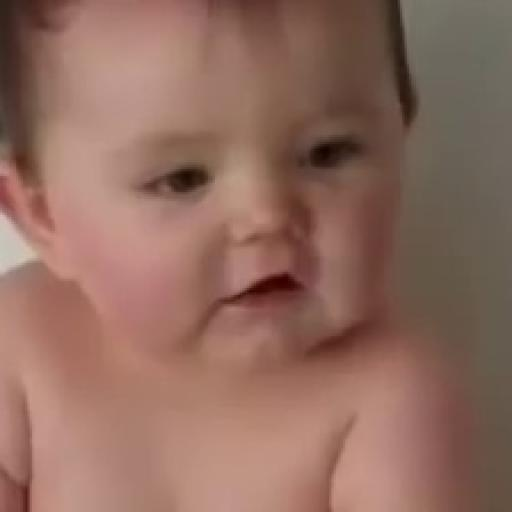Autism: (2, 5, 491, 405)
